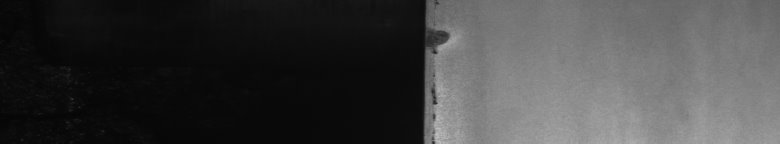hb: (436, 20, 461, 107)
